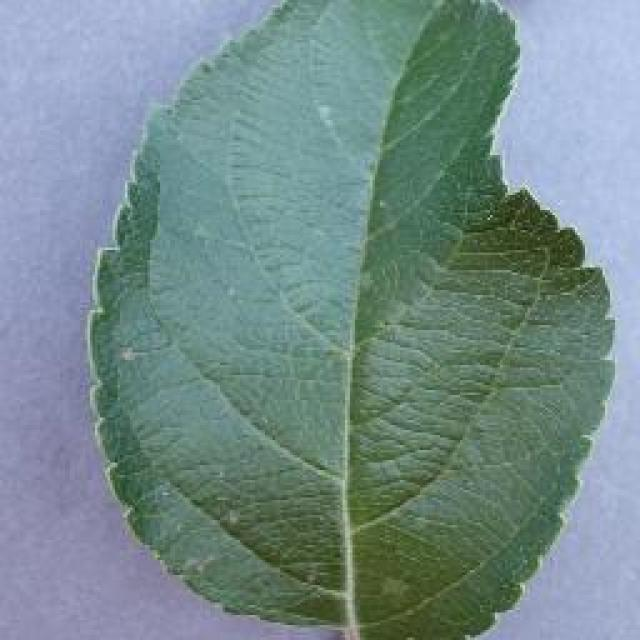apple healthy: (82, 0, 618, 638)
